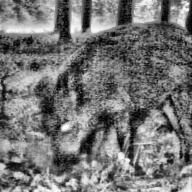boar: (37, 16, 192, 176)
